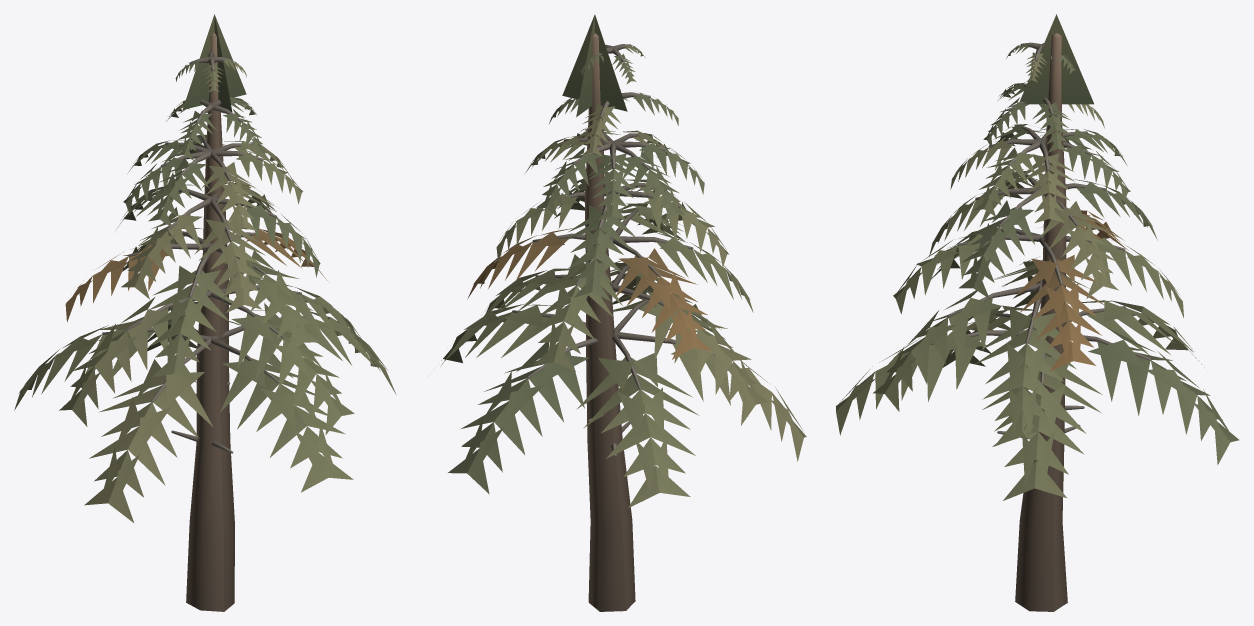
The model's file is pine_dry_a.glb.
3 renders of one model, left to right at view 1: azimuth 30°, elevation 25°; view 2: azimuth 150°, elevation 25°; view 3: azimuth 270°, elevation 25°, orthographic. The views are drawn at different scales.
Visible parts, largest first — view 1: pine_dry_a; view 2: pine_dry_a; view 3: pine_dry_a.
Part boxes in pixels (x1,y1,x2,y2): pine_dry_a: (14,14,396,611); pine_dry_a: (441,14,806,611); pine_dry_a: (836,14,1239,611).
Size of the model in its own units: 4.88 by 8.3 by 5.12.
